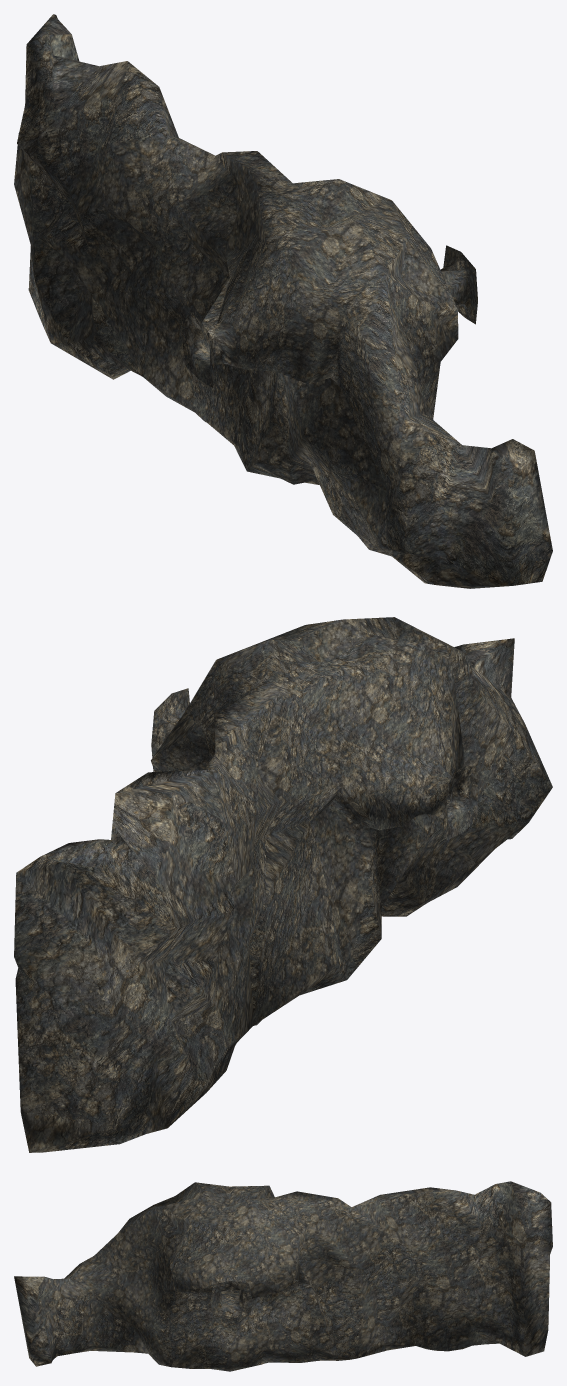
Rendered from Module23_LOD2.fbx.
3 renders of one model, top to bottom at view 1: azimuth 30°, elevation 25°; view 2: azimuth 150°, elevation 25°; view 3: azimuth 270°, elevation 25°, orthographic. The views are drawn at different scales.
Parts seen in each view (by area): view 1: cave_el23_2400_Group12447; view 2: cave_el23_2400_Group12447; view 3: cave_el23_2400_Group12447.
Part boxes in pixels (bbox=[...]): cave_el23_2400_Group12447: bbox=[14, 14, 552, 588]; cave_el23_2400_Group12447: bbox=[14, 617, 552, 1152]; cave_el23_2400_Group12447: bbox=[14, 1181, 552, 1371].
Bounding box in the file's own units: 40.94 × 43.06 × 123.
